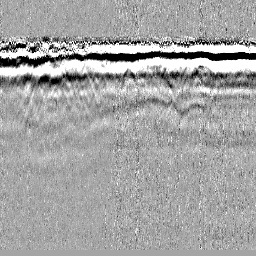cavity: (118, 61, 140, 91)
